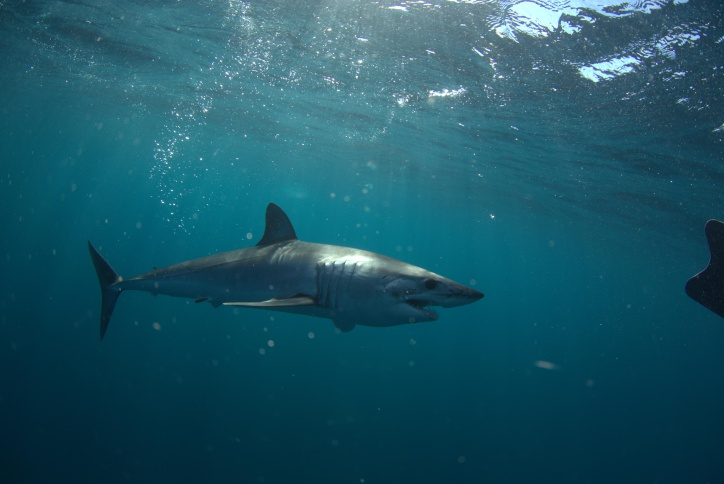Mako: (79, 196, 502, 349)
